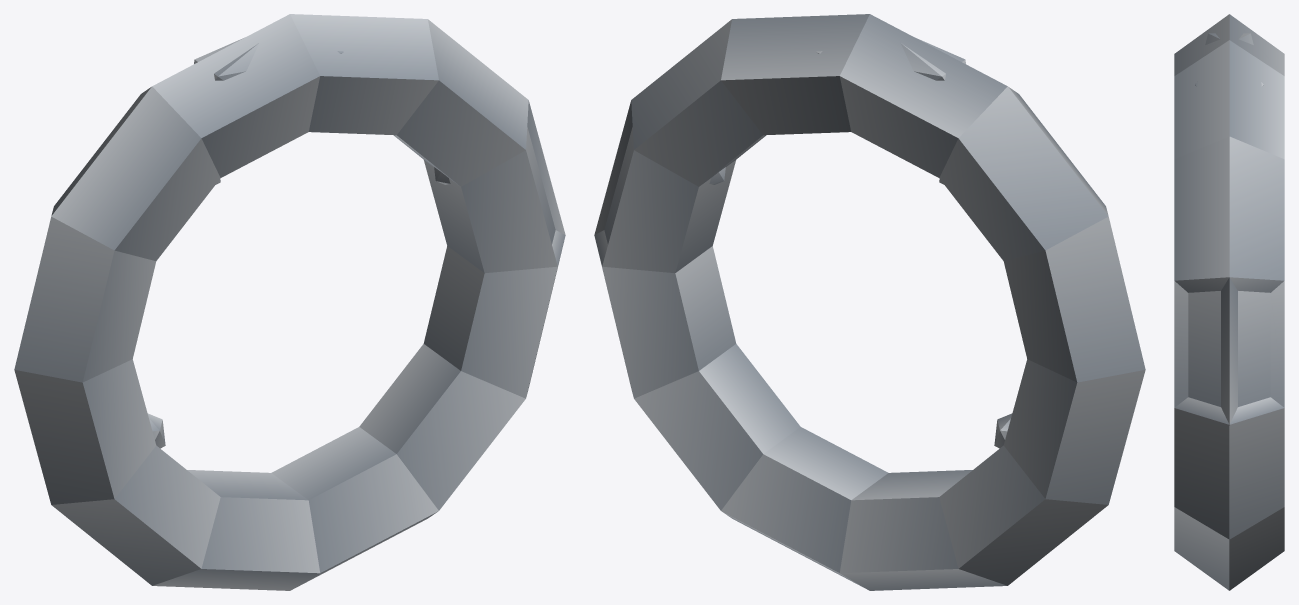
The model's file is dt_wreath.fbx.
3 renders of one model, left to right at view 1: azimuth 30°, elevation 25°; view 2: azimuth 150°, elevation 25°; view 3: azimuth 270°, elevation 25°, orthographic. The views are drawn at different scales.
Parts seen in each view (by area): view 1: dt_wreath; view 2: dt_wreath; view 3: dt_wreath.
Part boxes in pixels (bbox=[...]): dt_wreath: bbox=[14, 14, 565, 590]; dt_wreath: bbox=[594, 14, 1145, 590]; dt_wreath: bbox=[1174, 14, 1284, 590].
Bounding box in the file's own units: 280 × 280 × 53.26.
